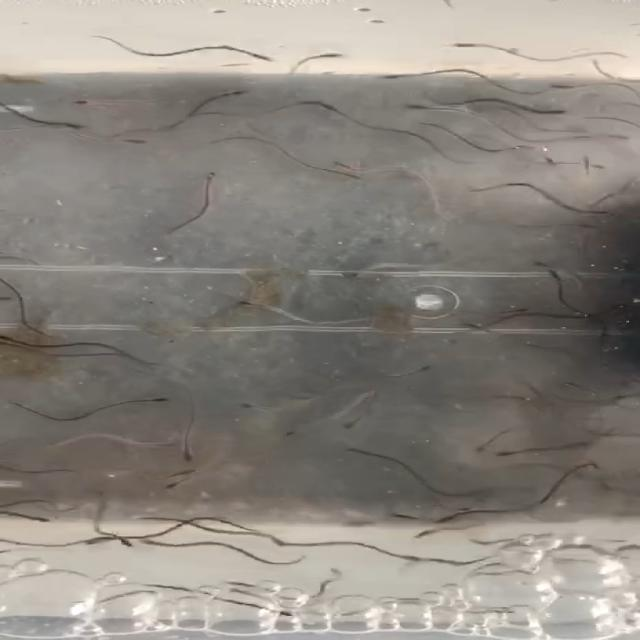active_glass_eel: (150, 467, 203, 483), (228, 44, 274, 62), (83, 530, 126, 549), (324, 155, 371, 172), (439, 36, 494, 50), (435, 510, 473, 530), (132, 532, 172, 550), (376, 509, 430, 522), (403, 526, 451, 540), (104, 532, 143, 549), (327, 267, 371, 282), (167, 441, 198, 462), (301, 97, 351, 110), (488, 446, 524, 464), (49, 118, 95, 132), (523, 258, 561, 274), (464, 319, 502, 335), (369, 66, 411, 80), (113, 135, 154, 149), (138, 393, 182, 406), (215, 86, 255, 100), (148, 436, 182, 452), (162, 478, 197, 493), (58, 96, 109, 106), (396, 103, 434, 116), (234, 400, 272, 413), (18, 514, 56, 527), (196, 169, 224, 186), (532, 106, 568, 119), (550, 81, 592, 92), (578, 158, 611, 172), (276, 426, 309, 440), (589, 206, 630, 217), (409, 363, 439, 378), (232, 301, 275, 311), (303, 50, 342, 61), (442, 336, 472, 350), (341, 416, 366, 432), (336, 170, 369, 182), (536, 149, 557, 167), (478, 439, 499, 455)
